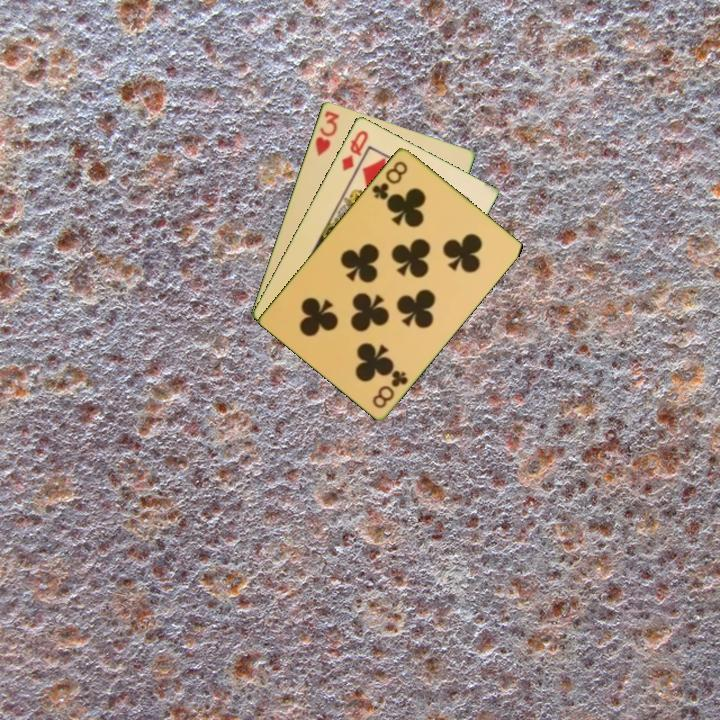3h: (311, 107, 342, 159)
8c: (368, 157, 411, 203), (369, 366, 411, 411)
Qd: (338, 126, 371, 174)
